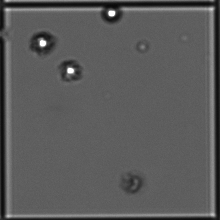Dead Cell: (118, 168, 145, 195)
Living Cell: (59, 59, 83, 84), (30, 30, 51, 55), (101, 4, 122, 26)
